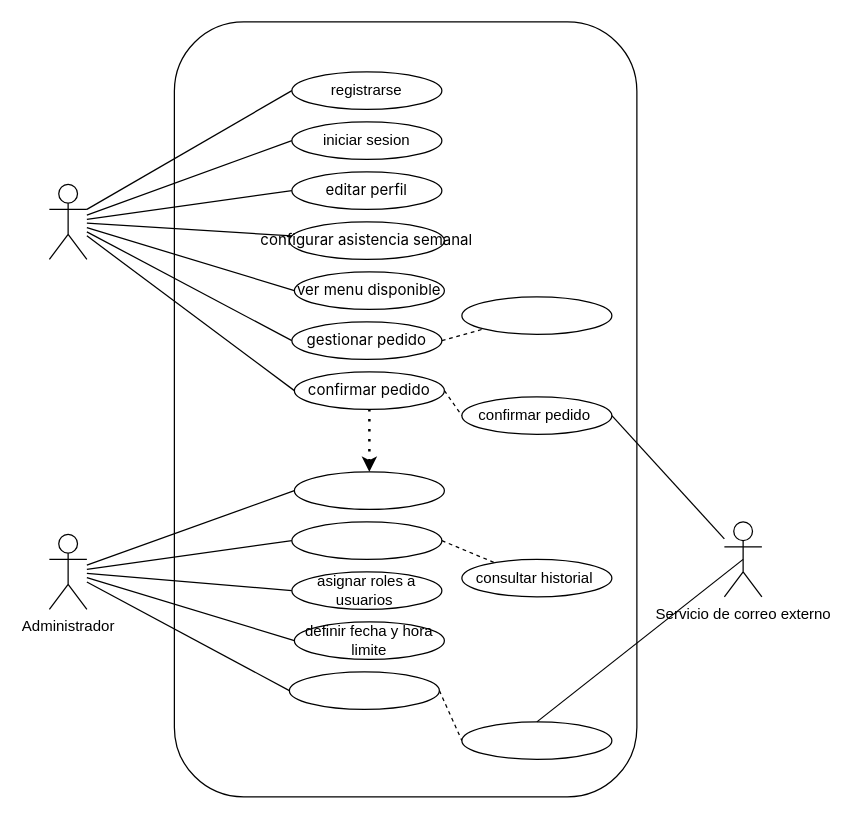
Image size: 851x819. Some labels were removed from this diagram. The centre of each missing label's shape, as x and y in pixels:
"cancelar pedido" belongs at (536,315).
"Empleado" belongs at (67,221).
"enviar correo" belongs at (536,740).
"Enviar notificación de confirmación" belongs at (368,490).
"enviar recordatorios" belongs at (363,690).
"modificar menu" belongs at (366,540).
